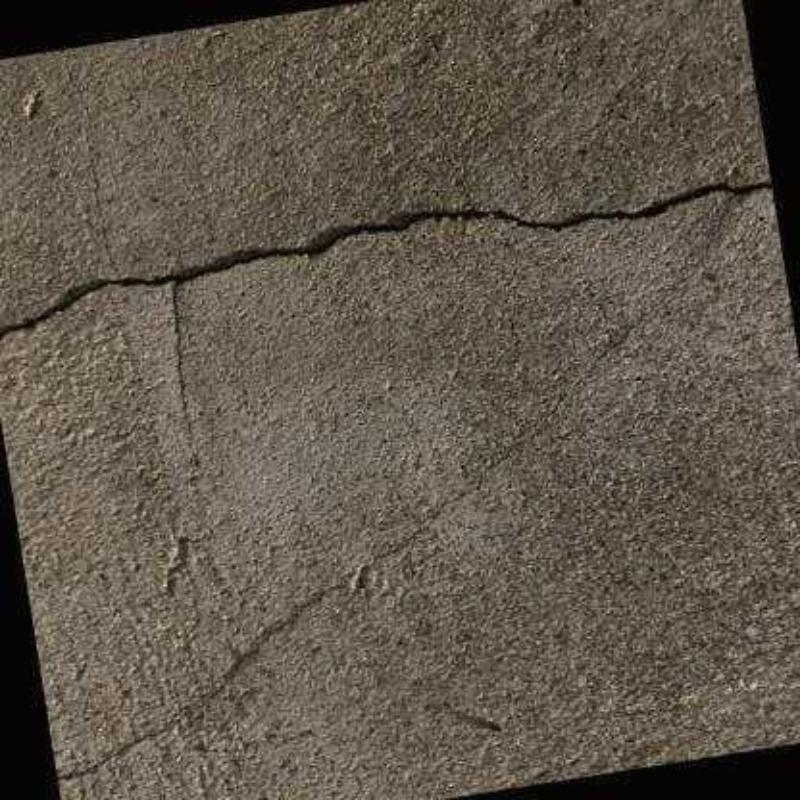pothole: (0, 175, 769, 345), (169, 287, 196, 442)
